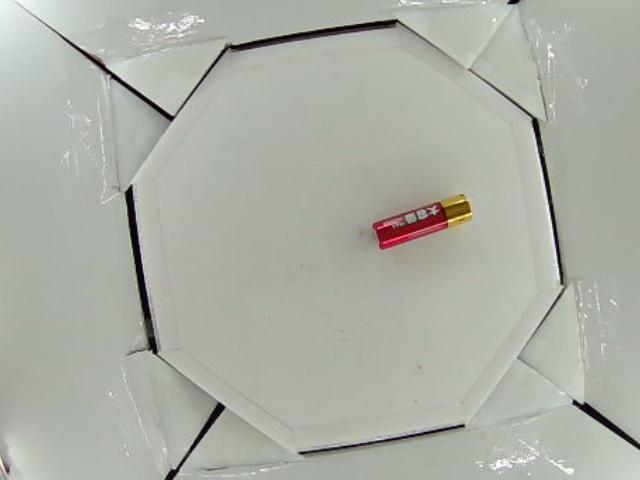Battery: (370, 192, 472, 247)
